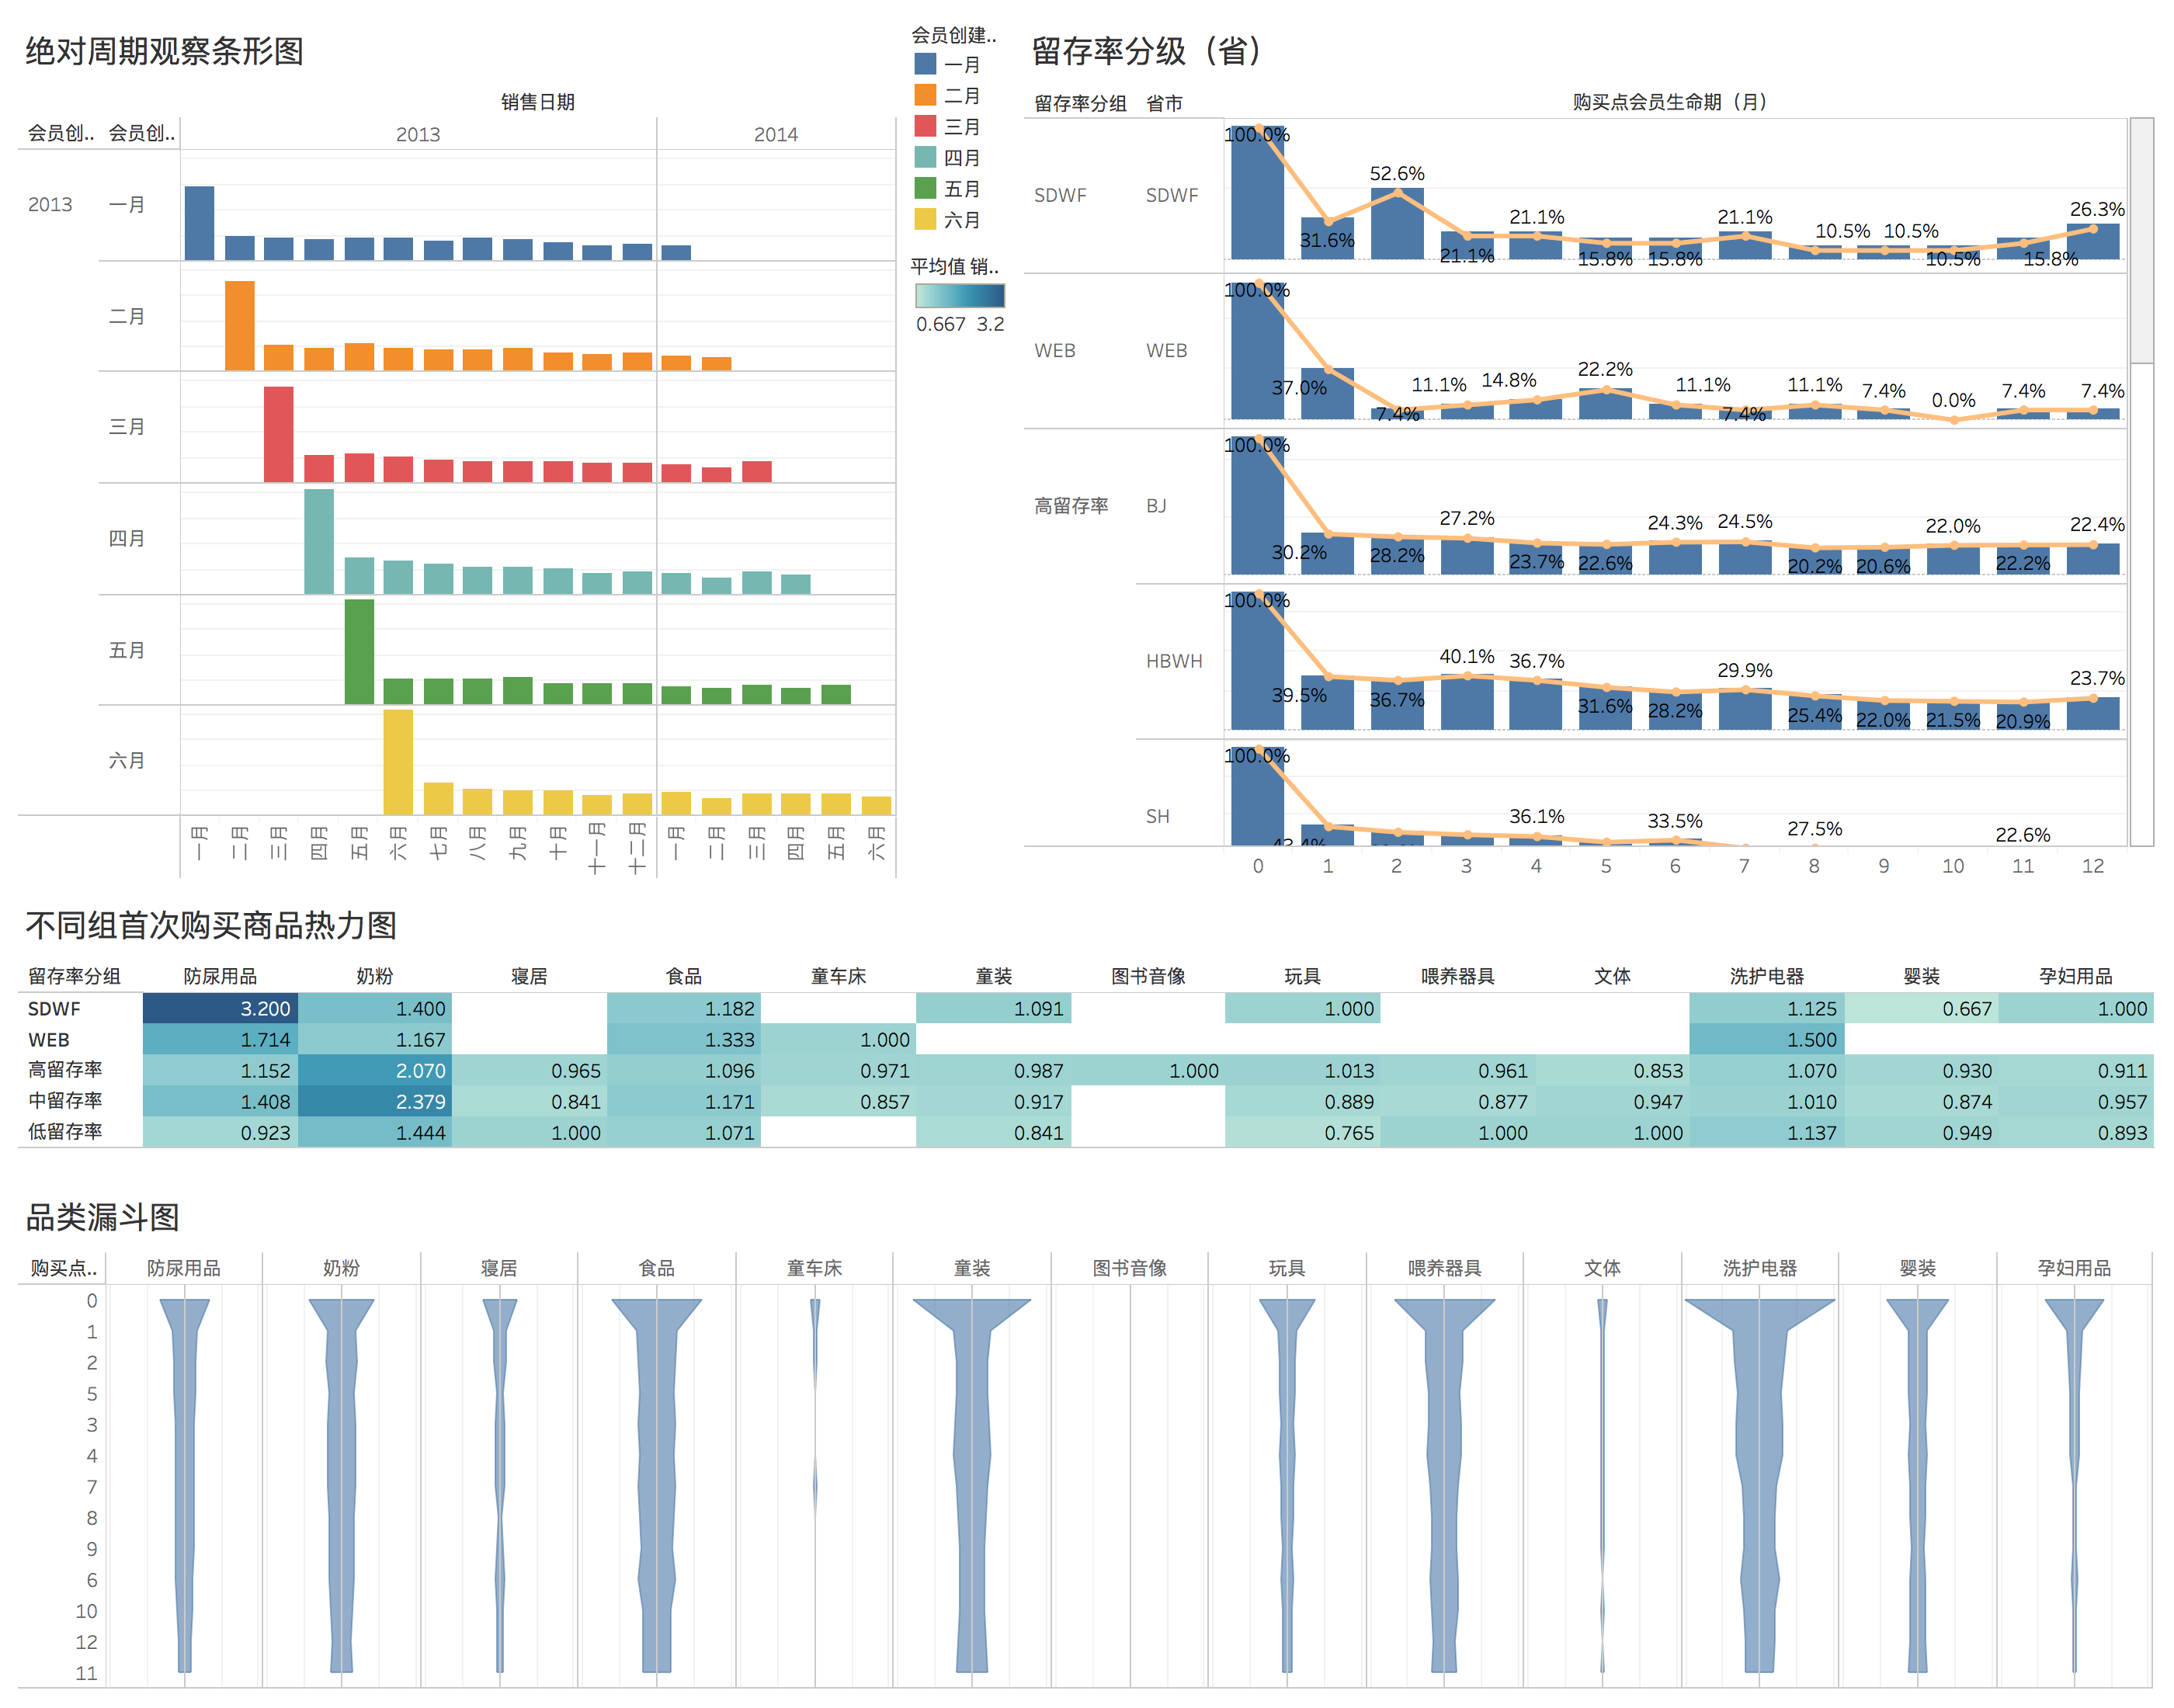

The dashboard page shown, as its layout file describes it:
{"tool":"tableau","page":{"name":"会员留存分析仪表盘","canvas":[1400,1100],"ordinal":0},"visuals":[{"type":"worksheet","title":"绝对周期观察条形图","mark":"Bar","rows":["会员创建日期 - 拆分 1","会员创建日期 - 拆分 1","UserId"],"cols":["销售日期","销售日期"],"box":[8,8,574.3,563.1]},{"type":"legend","title":"绝对周期观察条形图","param":"[federated.1a0gc0912tqa1i180l2am0n1x6p1].[mn:会员创建日期 - 拆分 1:ok]","box":[582.3,8,74,147]},{"type":"worksheet","title":"留存率分级（省）","mark":"Automatic","rows":["留存率分组","省市","UserId"],"cols":["Calculation_1450510950194851840"],"box":[656.3,8,735.7,563.1]},{"type":"legend","title":"不同组首次购买商品热力图","param":"[federated.1a0gc0912tqa1i180l2am0n1x6p1].[avg:销售量:qk]","box":[582.3,155,74,66]},{"type":"worksheet","title":"不同组首次购买商品热力图","mark":"Square","rows":["留存率分组"],"cols":["二级品类"],"box":[8,571.1,1384,187.9]},{"type":"worksheet","title":"品类漏斗图","mark":"Area","rows":["Calculation_1450510950194851840"],"cols":["二级品类","Calculation_1450510950204497921","Calculation_1450510950204518403"],"box":[8,759,1384,333]}]}

Visuals, with their boxes in screenshot pixels (x1, y1, x2, y2), scaled from the page's 1400x1100 canvas onto the 2174x1708 screenshot:
"绝对周期观察条形图" worksheet (Bar marks): 12/12/905/887
"绝对周期观察条形图" legend: 905/12/1019/241
"留存率分级（省）" worksheet: 1019/12/2162/887
"不同组首次购买商品热力图" legend: 905/241/1019/343
"不同组首次购买商品热力图" worksheet (Square marks): 12/887/2162/1179
"品类漏斗图" worksheet (Area marks): 12/1179/2162/1696
